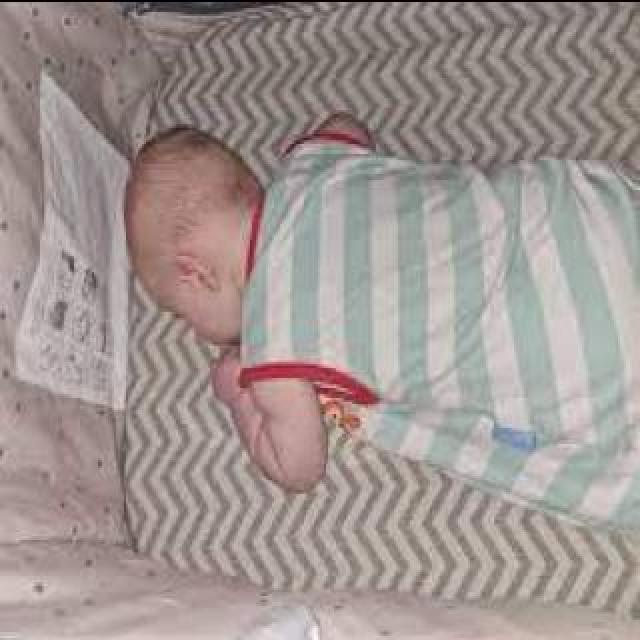baby: (119, 114, 639, 538)
